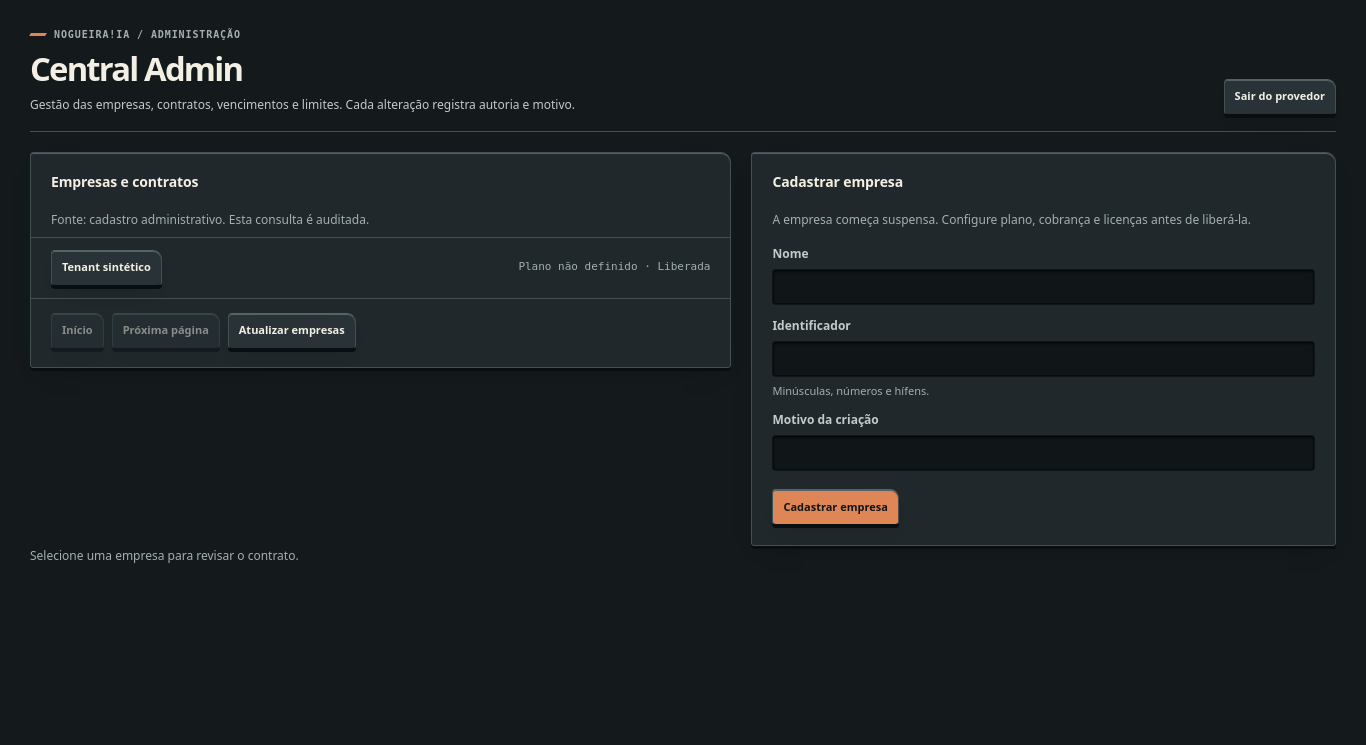
Test: releasing a configured company carries its version and audit reason
The image size is (1366, 745).
Click the button "Tenant sintético" at [106, 268], box [51,250,162,286]
(page scrolled)
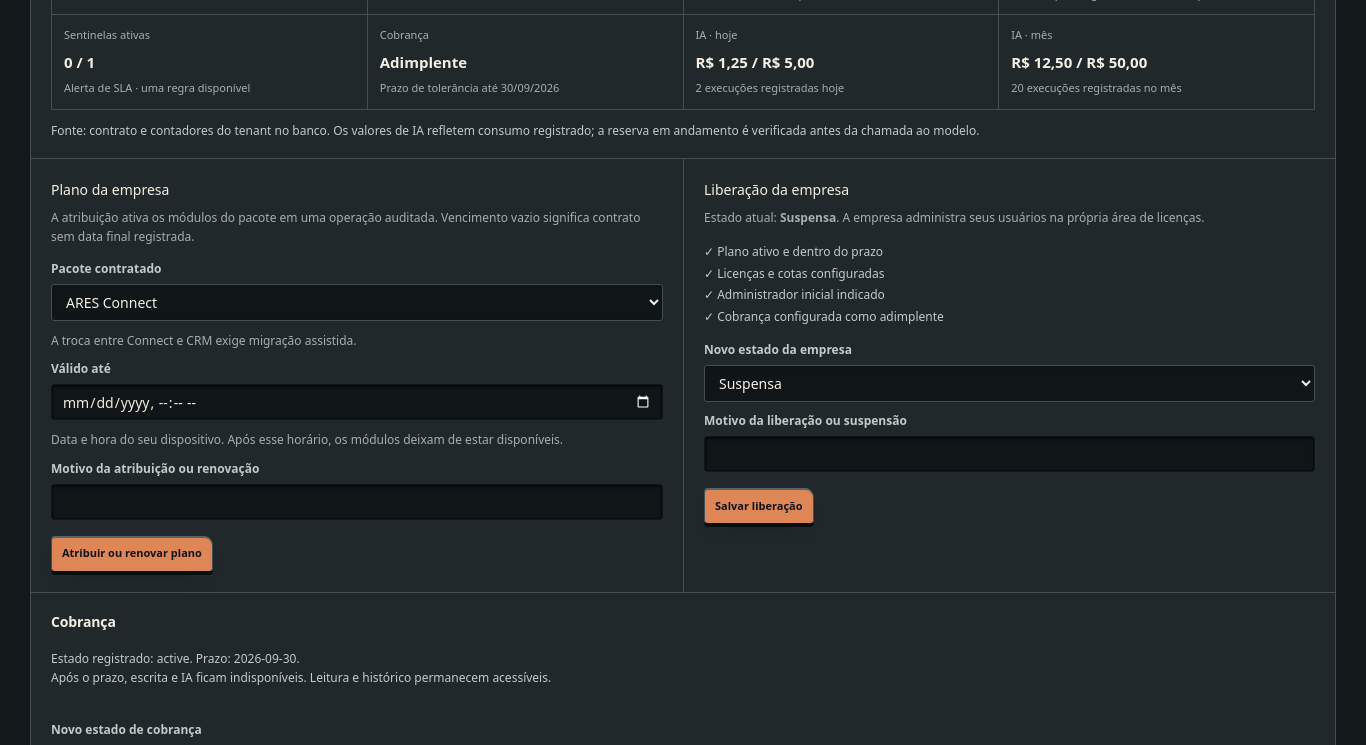
Select "Liberada" in the dropdown labelled "Novo estado da empresa" at [1010, 384], box [704,366,1315,402]
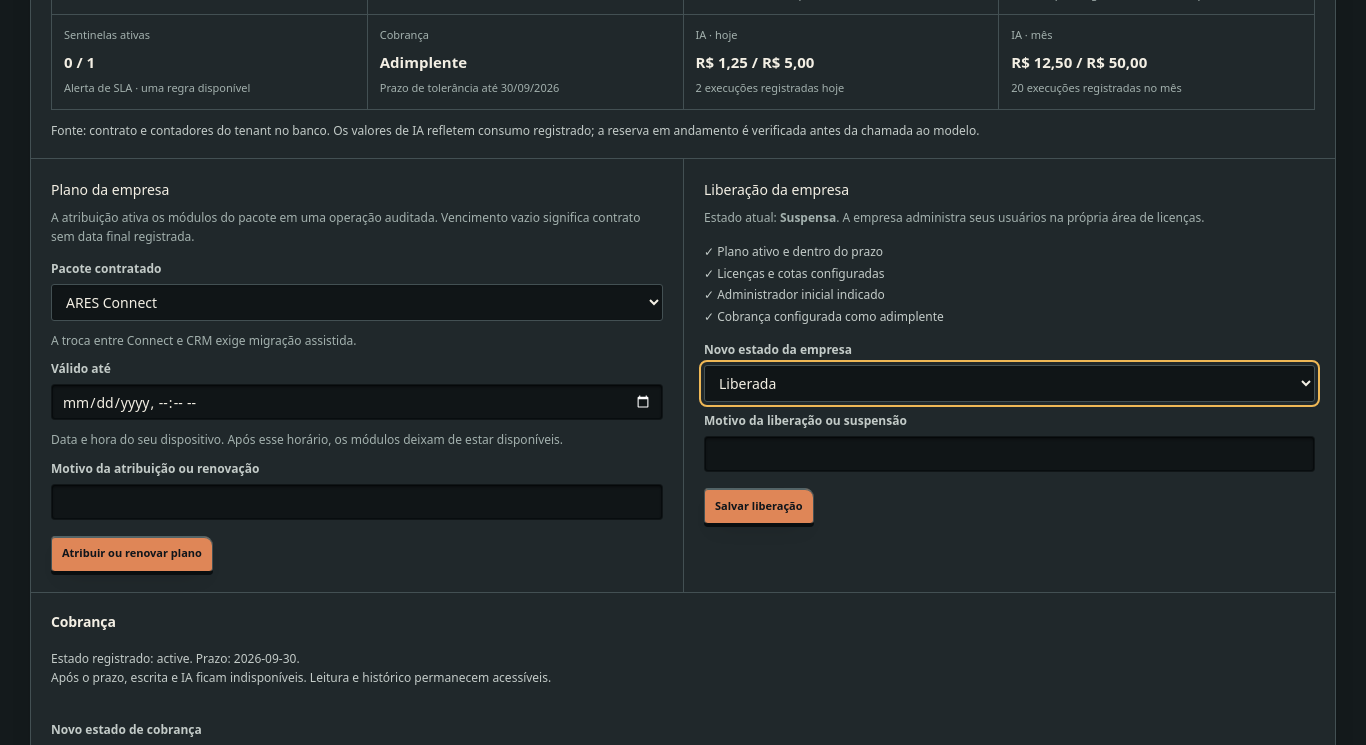
Type "Contrato habilitado" into the field labelled "Motivo da liberação ou suspensão" at [1010, 454], box [704,436,1315,472]
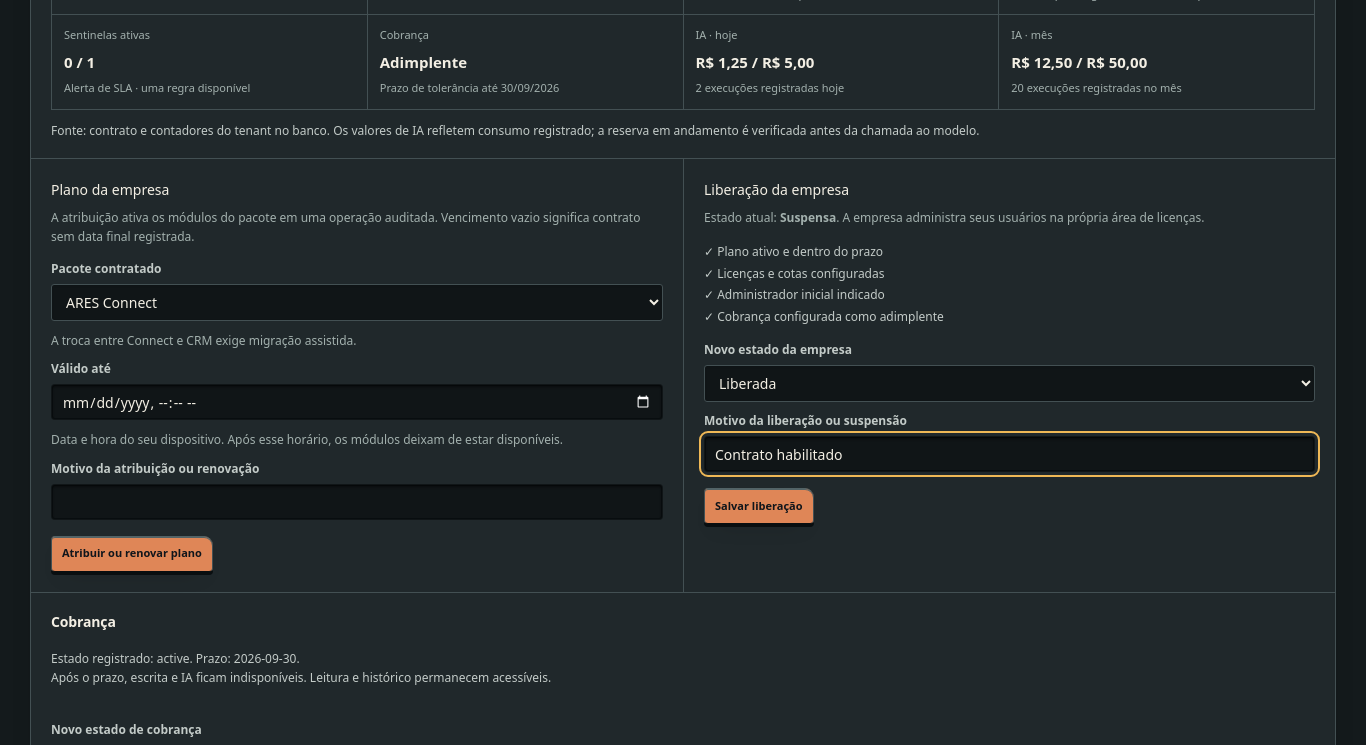
Click the button "Salvar liberação" at [759, 506], box [704,488,814,524]
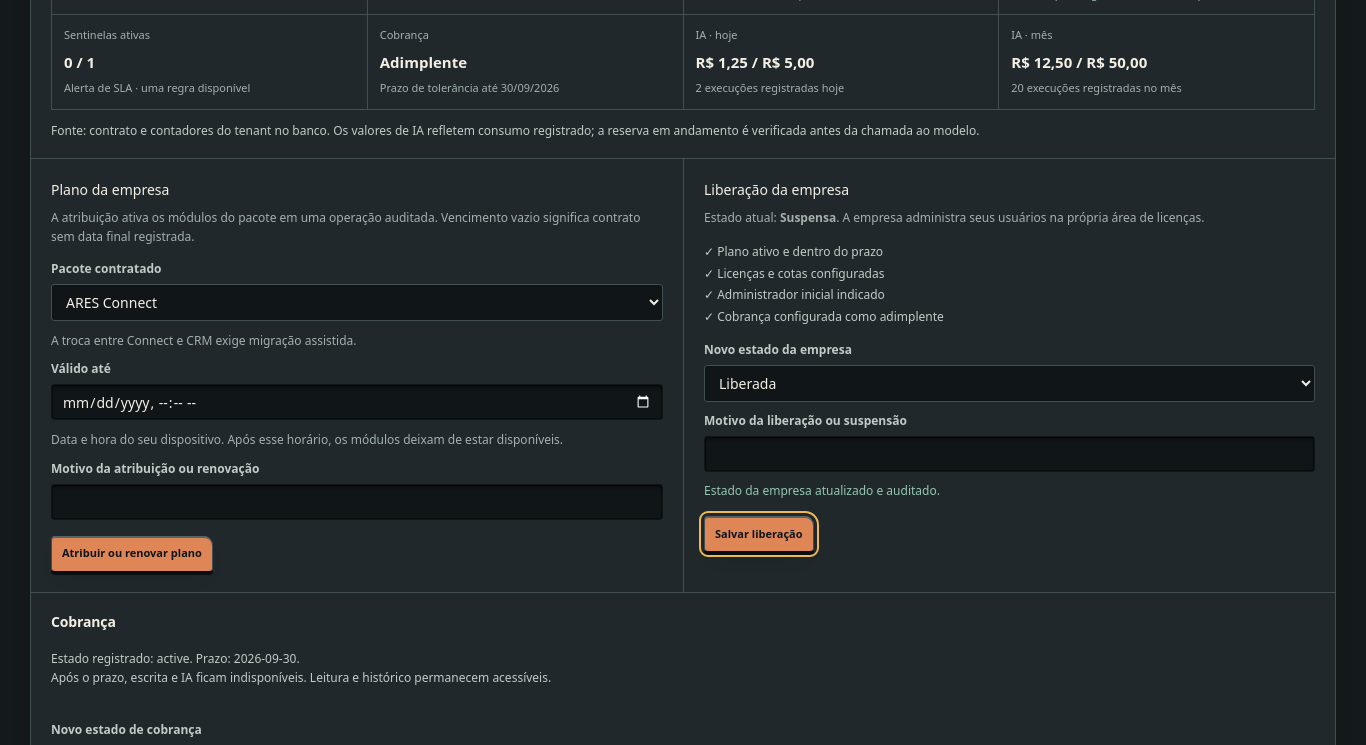
Now the text "Estado da empresa atualizado e auditado." is shown, box [704,482,940,500]
